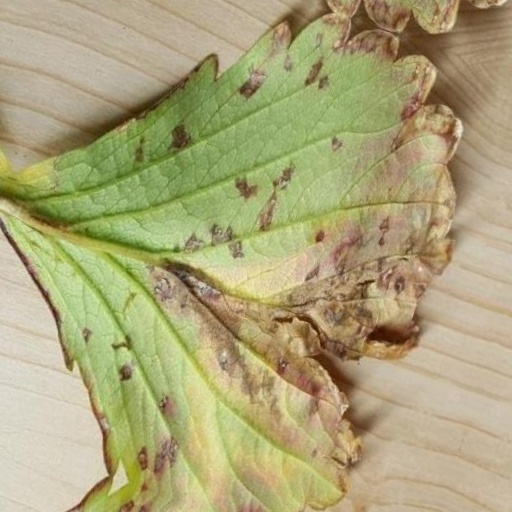Angular Leafspot: (67, 0, 511, 511)
